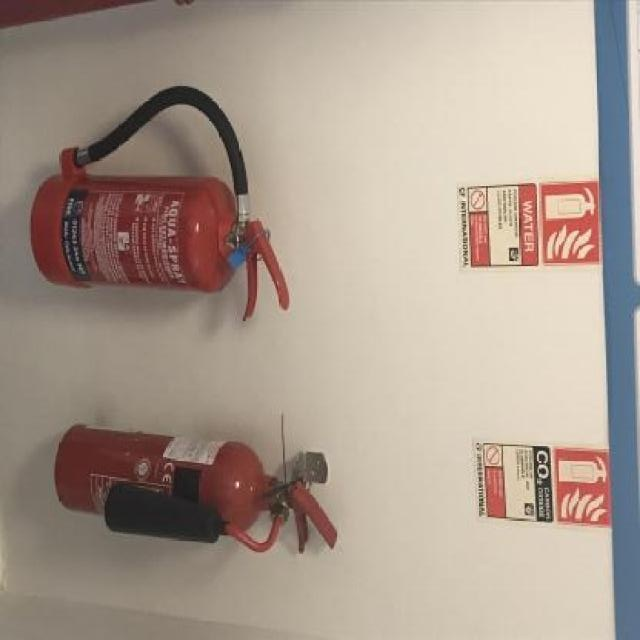fire extinguisher: (30, 84, 290, 322), (56, 419, 339, 558)
